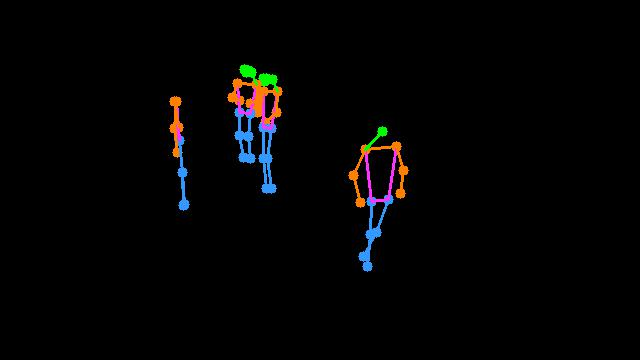normal: (330, 104, 420, 286), (214, 43, 301, 207), (152, 84, 209, 225)
